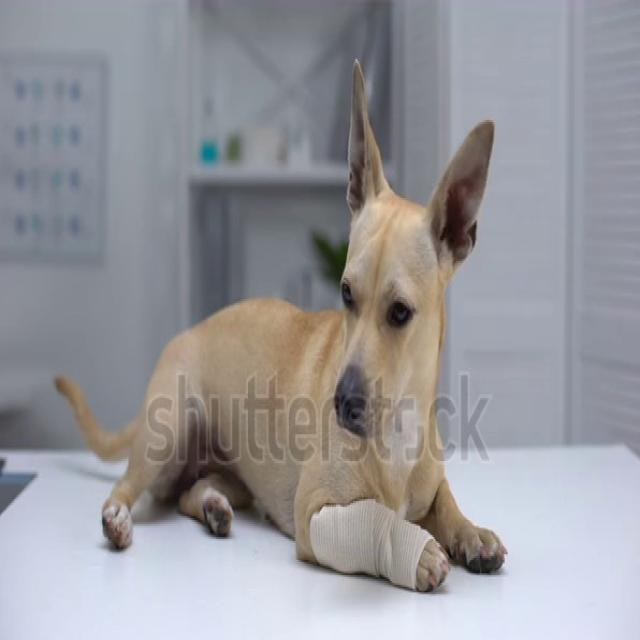injured-animals: (52, 55, 510, 598)
